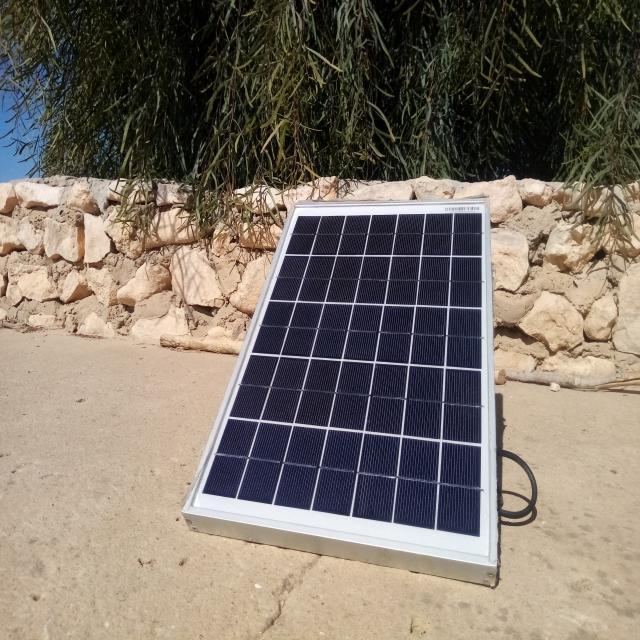no faulty: (185, 201, 498, 570)
